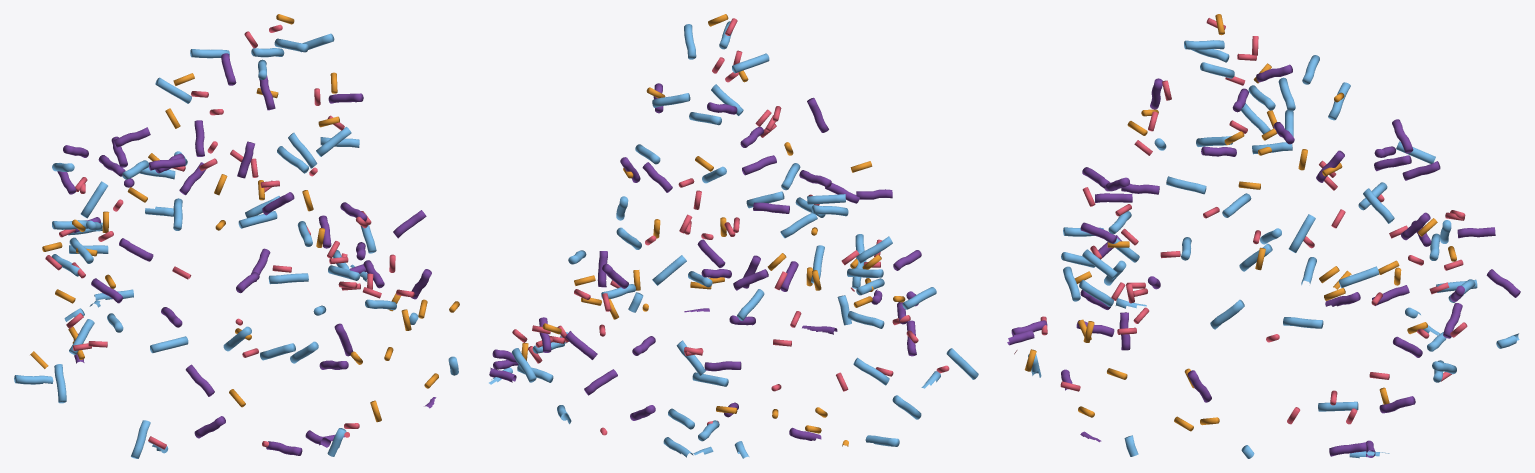
The model's file is sprinkles.gltf.
3 views of the same model, side by side, from view 1: azimuth 30°, elevation 25°; view 2: azimuth 150°, elevation 25°; view 3: azimuth 270°, elevation 25° (orthographic). The views are drawn at different scales.
Visible parts, largest first — view 1: sprinkles; view 2: sprinkles; view 3: sprinkles.
Part boxes in pixels (x1,y1,x2,y2): sprinkles: (14,14,459,458); sprinkles: (489,14,978,458); sprinkles: (1007,14,1520,458).
Bounding box in the file's own units: 0.232 × 0.212 × 0.2587.
